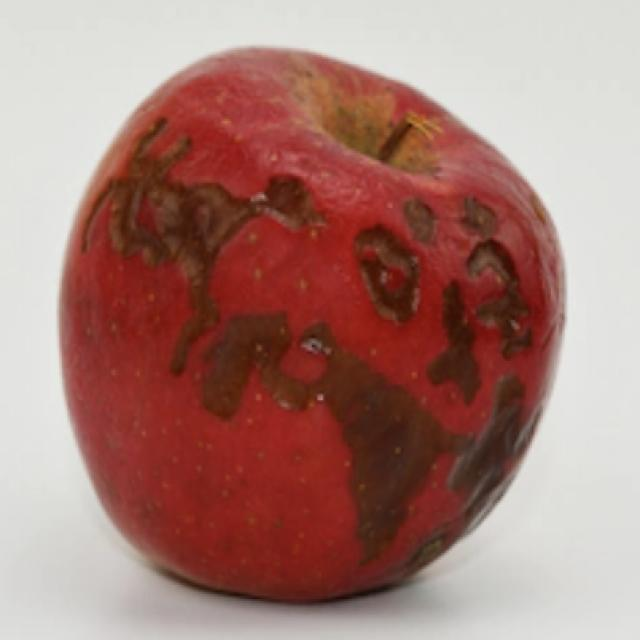Rotten: (58, 42, 572, 638)
